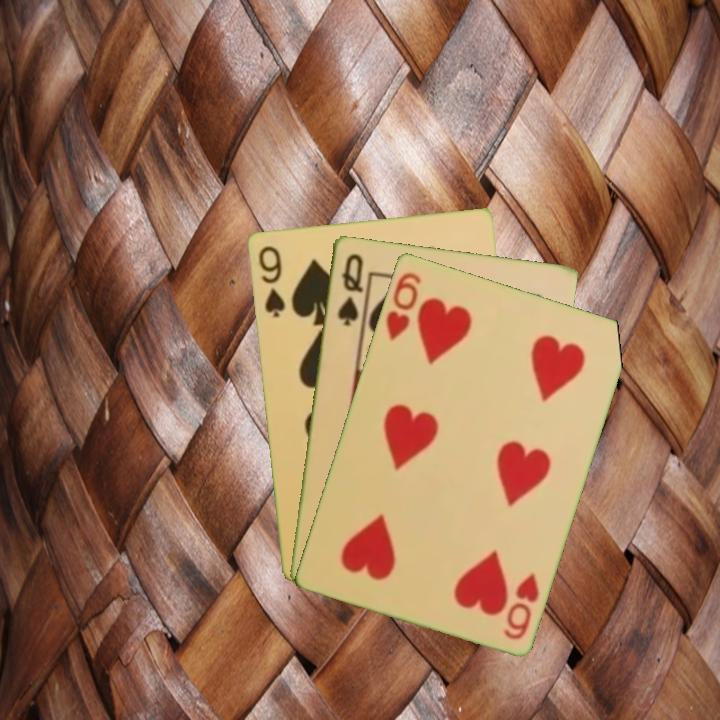6h: (382, 268, 424, 343), (499, 569, 542, 642)
9s: (254, 242, 287, 320)
Qs: (334, 249, 366, 329)
